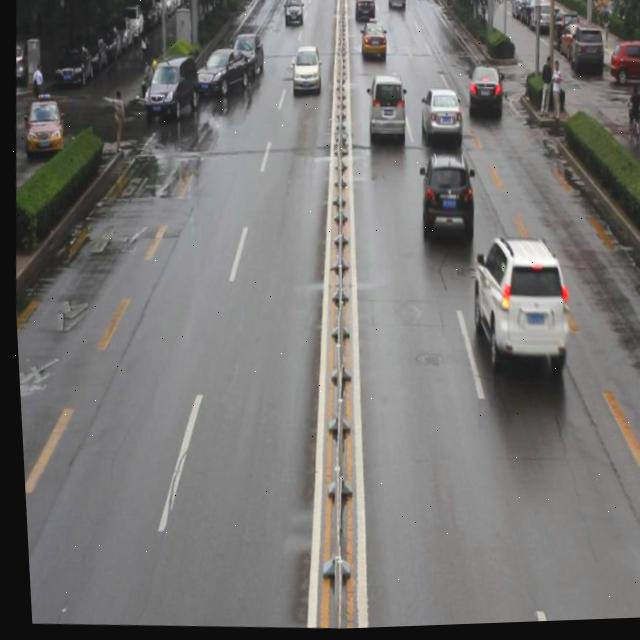car: (464, 236, 571, 384), (413, 156, 474, 249), (193, 47, 251, 105), (417, 93, 464, 150), (463, 68, 500, 120), (228, 35, 263, 84), (289, 47, 320, 93)
truck: (142, 59, 198, 121), (363, 78, 404, 145)
